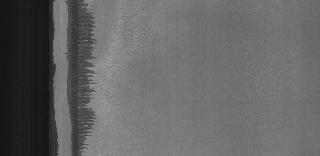oil spot: (62, 2, 110, 154)
